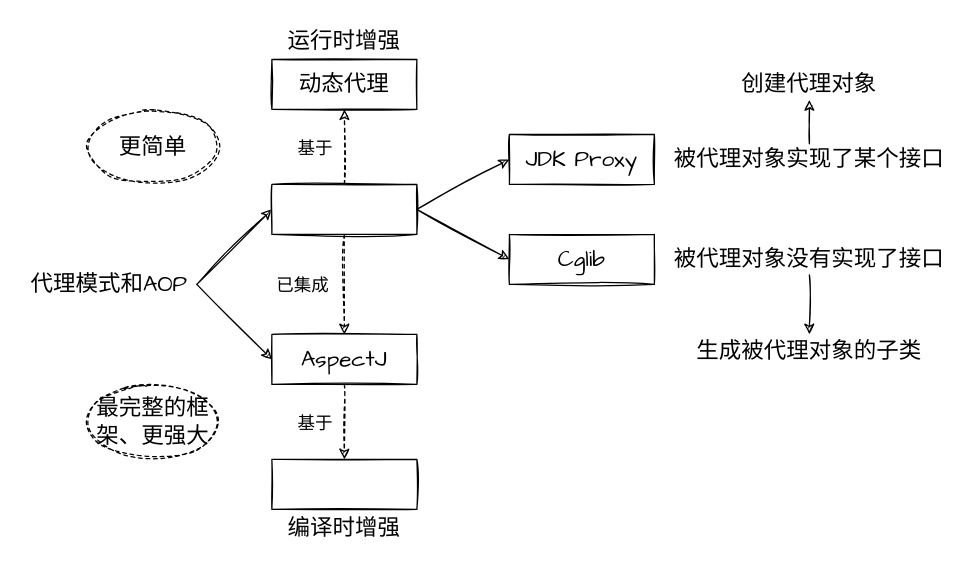
This 968x568 diagram has some shape labels left out. Here are the shapes that lost their labels. From the top down, the box of each, then its label:
(271, 183, 417, 234): Spring AOP
(271, 458, 417, 509): 字节码操作
